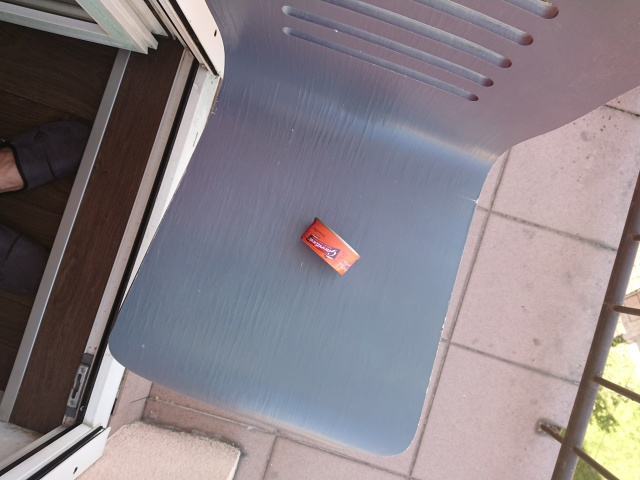Gavrilovic Pork Liver Pate 100g: (298, 214, 362, 276)
